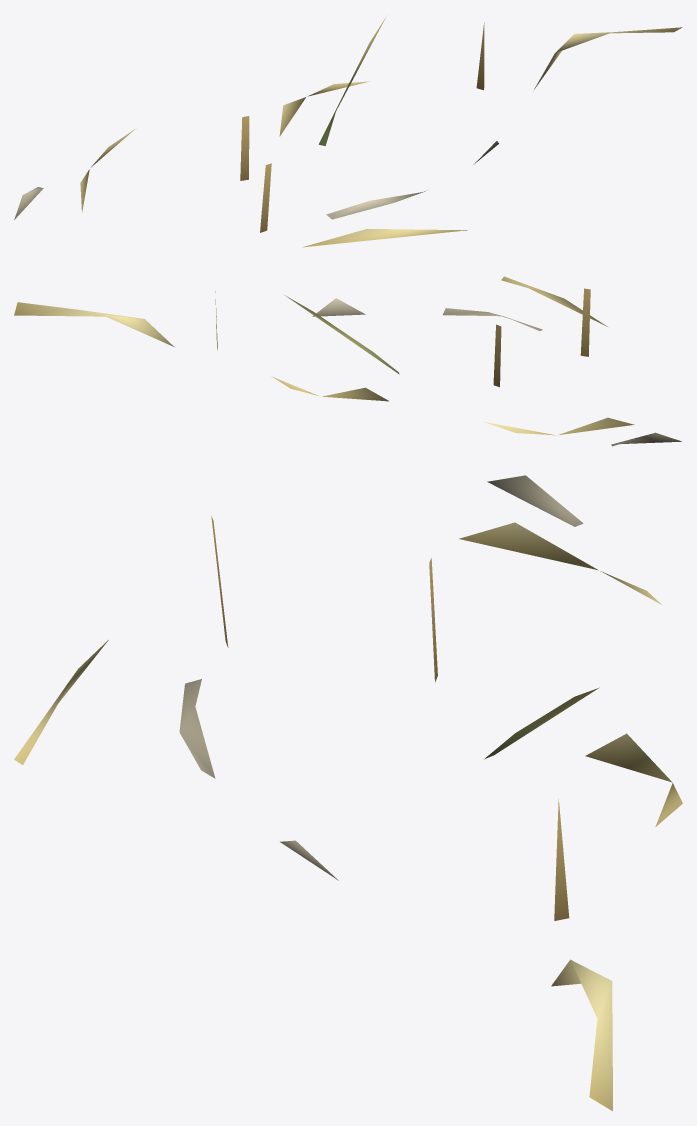
Rendered from MownClippings_LOD2.glb.
3 views of the same model, one above another, from view 1: azimuth 30°, elevation 25°; view 2: azimuth 150°, elevation 25°; view 3: azimuth 270°, elevation 25° (orthographic). The views are drawn at different scales.
Parts seen in each view (by area): view 1: MownClippings_LOD2; view 2: MownClippings_LOD2; view 3: MownClippings_LOD2.
Part boxes in pixels (<box>): MownClippings_LOD2: <box>14,16,682,247</box>; MownClippings_LOD2: <box>14,276,681,446</box>; MownClippings_LOD2: <box>14,475,682,1111</box>.
Size of the model in its own units: 0.3632 by 0.0497 by 0.1656.
